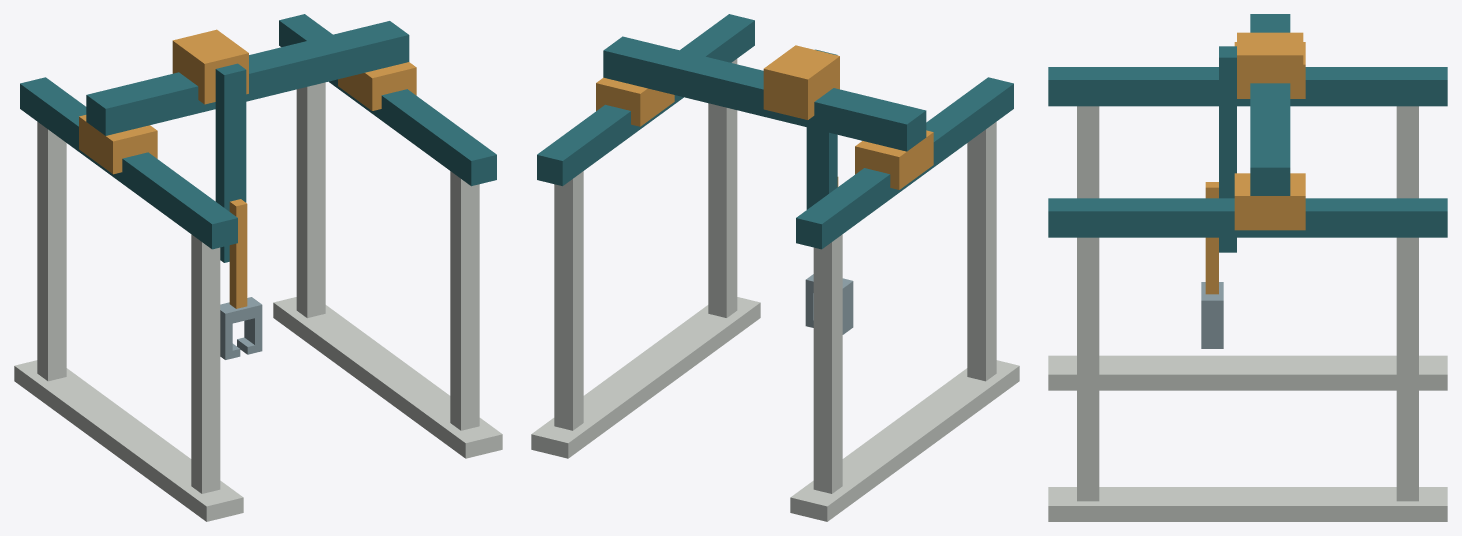
3 renders of one model, left to right at view 1: azimuth 30°, elevation 25°; view 2: azimuth 150°, elevation 25°; view 3: azimuth 270°, elevation 25°, orthographic. The views are drawn at different scales.
Parts seen in each view (by area): view 1: WholeTransverseBridge, LeftWholeGroundBeam, RightWholeGroundBeam, LeftWholeLongitudinalRail, RightFrontWholePost, LeftFrontWholePost, LeftBackWholePost, RightBackWholePost, RightWholeLongitudinalRail, WholeVerticalToolGuide, WholeWraparoundBridgeCarriage, LeftWholeWraparoundRailShoe (+4 smaller); view 2: WholeTransverseBridge, LeftWholeGroundBeam, RightWholeGroundBeam, LeftWholeLongitudinalRail, RightBackWholePost, LeftBackWholePost, LeftFrontWholePost, RightWholeLongitudinalRail, RightFrontWholePost, WholeWraparoundBridgeCarriage, LeftWholeWraparoundRailShoe, WholeVerticalToolGuide (+1 smaller); view 3: RightWholeLongitudinalRail, RightWholeGroundBeam, LeftWholeGroundBeam, LeftWholeLongitudinalRail, RightBackWholePost, RightFrontWholePost, WholeTransverseBridge, WholeWraparoundBridgeCarriage, RightWholeWraparoundRailShoe, WholeVerticalToolGuide, LeftBackWholePost, LeftFrontWholePost (+3 smaller).
Boxes of the visible parts, box(x1,y1,x2,y2) form: WholeTransverseBridge: box(86, 21, 409, 135); LeftWholeGroundBeam: box(14, 360, 243, 521); RightWholeGroundBeam: box(273, 297, 502, 458); LeftWholeLongitudinalRail: box(20, 77, 237, 249); RightFrontWholePost: box(450, 171, 479, 430); LeftFrontWholePost: box(191, 234, 220, 493); LeftBackWholePost: box(37, 122, 66, 381); RightBackWholePost: box(296, 82, 325, 317); RightWholeLongitudinalRail: box(279, 14, 496, 186); WholeVerticalToolGuide: box(215, 63, 246, 262); WholeWraparoundBridgeCarriage: box(172, 29, 248, 104); LeftWholeWraparoundRailShoe: box(79, 115, 157, 174); WholeTransverseBridge: box(603, 36, 926, 151); LeftWholeGroundBeam: box(790, 360, 1019, 521); RightWholeGroundBeam: box(531, 297, 760, 458); LeftWholeLongitudinalRail: box(796, 77, 1013, 249); RightBackWholePost: box(554, 171, 583, 430); LeftBackWholePost: box(813, 234, 842, 493); LeftFrontWholePost: box(967, 122, 996, 381); RightWholeLongitudinalRail: box(537, 14, 754, 186); RightFrontWholePost: box(708, 59, 737, 317); WholeWraparoundBridgeCarriage: box(763, 45, 839, 119); LeftWholeWraparoundRailShoe: box(855, 130, 933, 189); WholeVerticalToolGuide: box(806, 49, 837, 209); RightWholeLongitudinalRail: box(1048, 198, 1447, 237); RightWholeGroundBeam: box(1048, 487, 1447, 521); LeftWholeGroundBeam: box(1048, 355, 1447, 390); LeftWholeLongitudinalRail: box(1048, 67, 1447, 106); RightBackWholePost: box(1396, 237, 1418, 501); RightFrontWholePost: box(1077, 237, 1099, 501); WholeTransverseBridge: box(1250, 14, 1290, 195); WholeWraparoundBridgeCarriage: box(1237, 32, 1303, 97); RightWholeWraparoundRailShoe: box(1234, 173, 1305, 230); WholeVerticalToolGuide: box(1219, 46, 1236, 252); LeftBackWholePost: box(1396, 106, 1418, 198); LeftFrontWholePost: box(1077, 106, 1099, 198).
Bounding box in the file's own units: 1.64 × 1.91 × 1.8.
